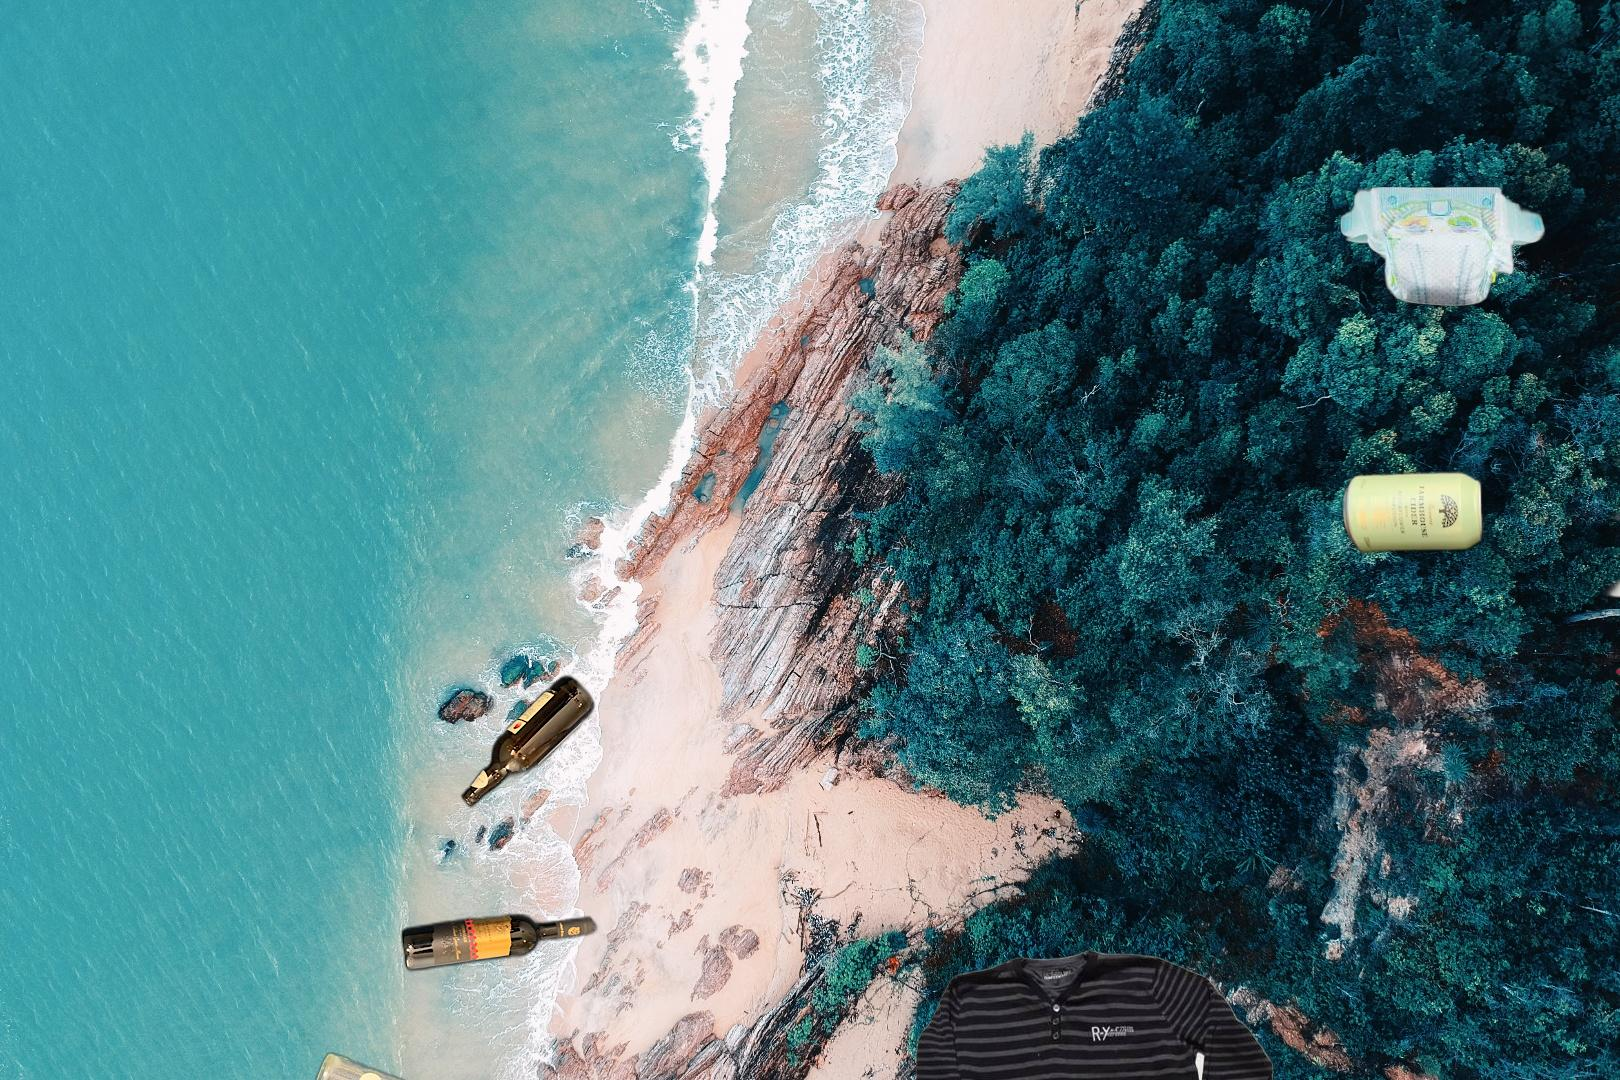clothes: (896, 945, 1276, 1080)
glass: (311, 669, 601, 1080)
metal-cans: (1339, 465, 1620, 925)
penholder: (1600, 436, 1620, 695)
trash: (1338, 184, 1548, 309)
